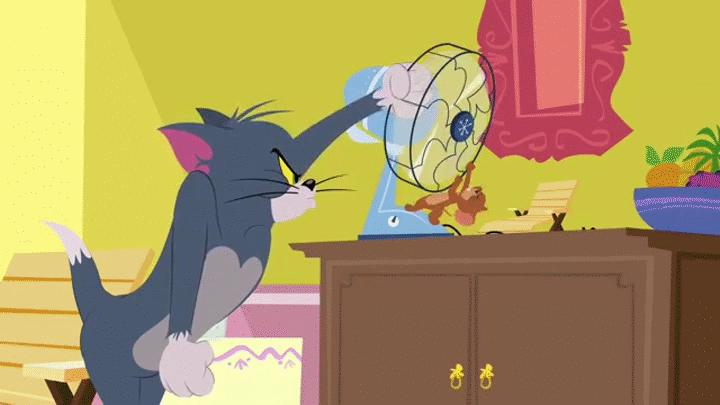tom: (42, 62, 432, 404)
